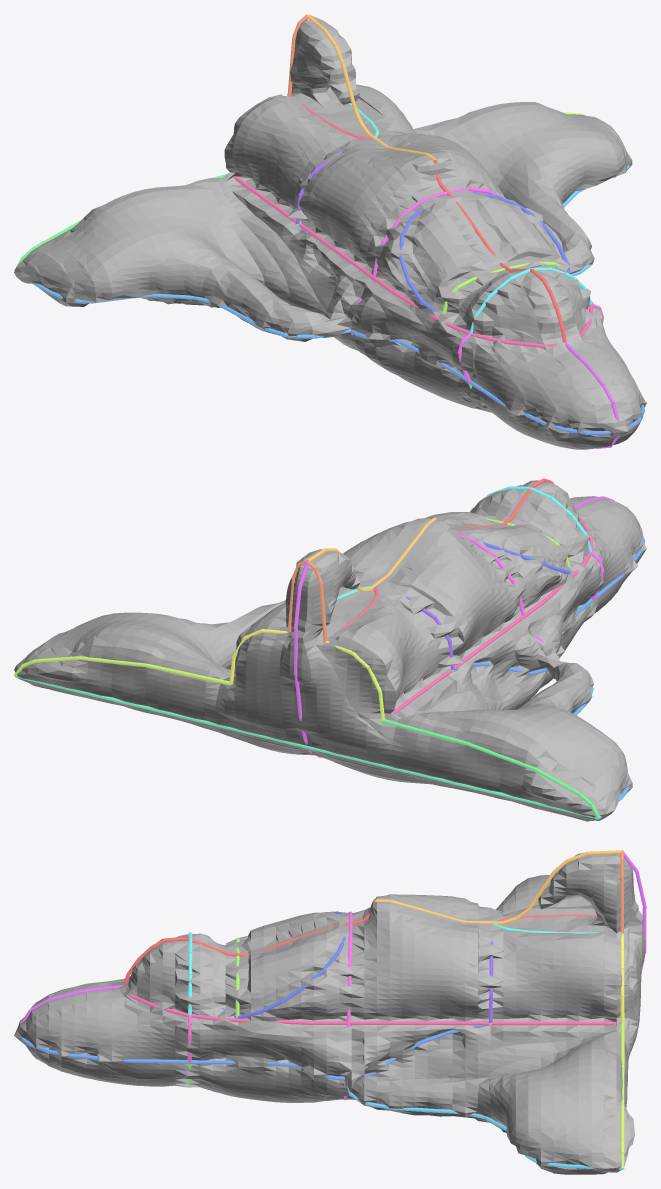
File: t2f_fighter.gltf
3 renders of one model, top to bottom at view 1: azimuth 30°, elevation 25°; view 2: azimuth 150°, elevation 25°; view 3: azimuth 270°, elevation 25°, orthographic. The views are drawn at different scales.
Size of the model in its own units: 0.7096 by 0.2743 by 0.6752.
